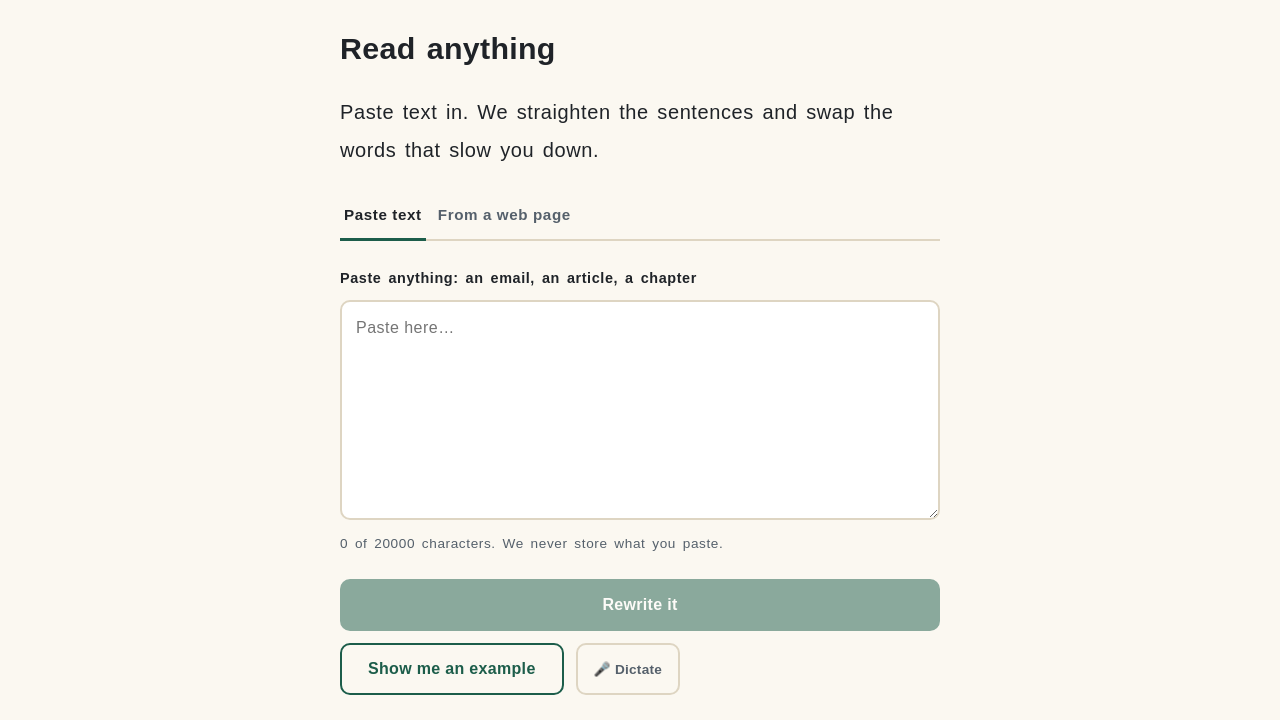
Scenario: Read anything — define a selected word (v0.6) › shows a Define chip when a single word is selected, and shows the definition on click
Type "The clock struck noon." into the text box labelled "Paste anything: an email, an article, a chapter" at (640,410), box [340,300,940,520]
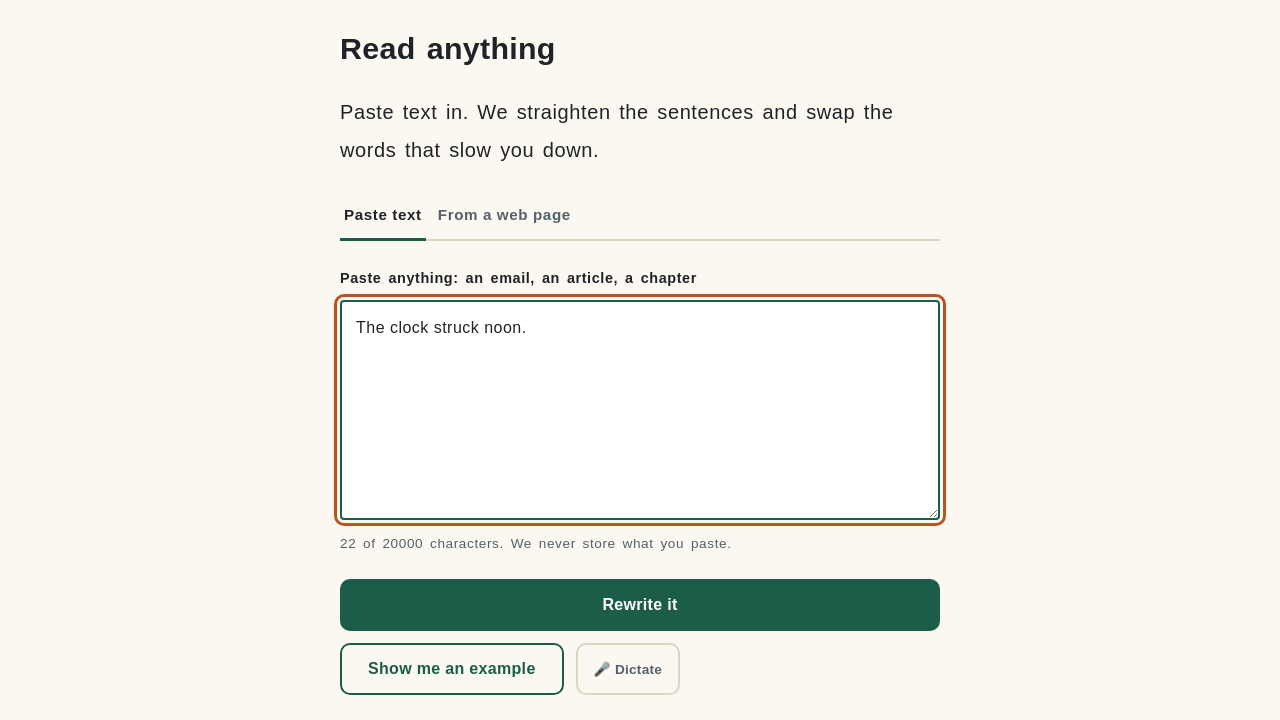
Click the button "Rewrite it" at (640,605), box [340,579,940,631]
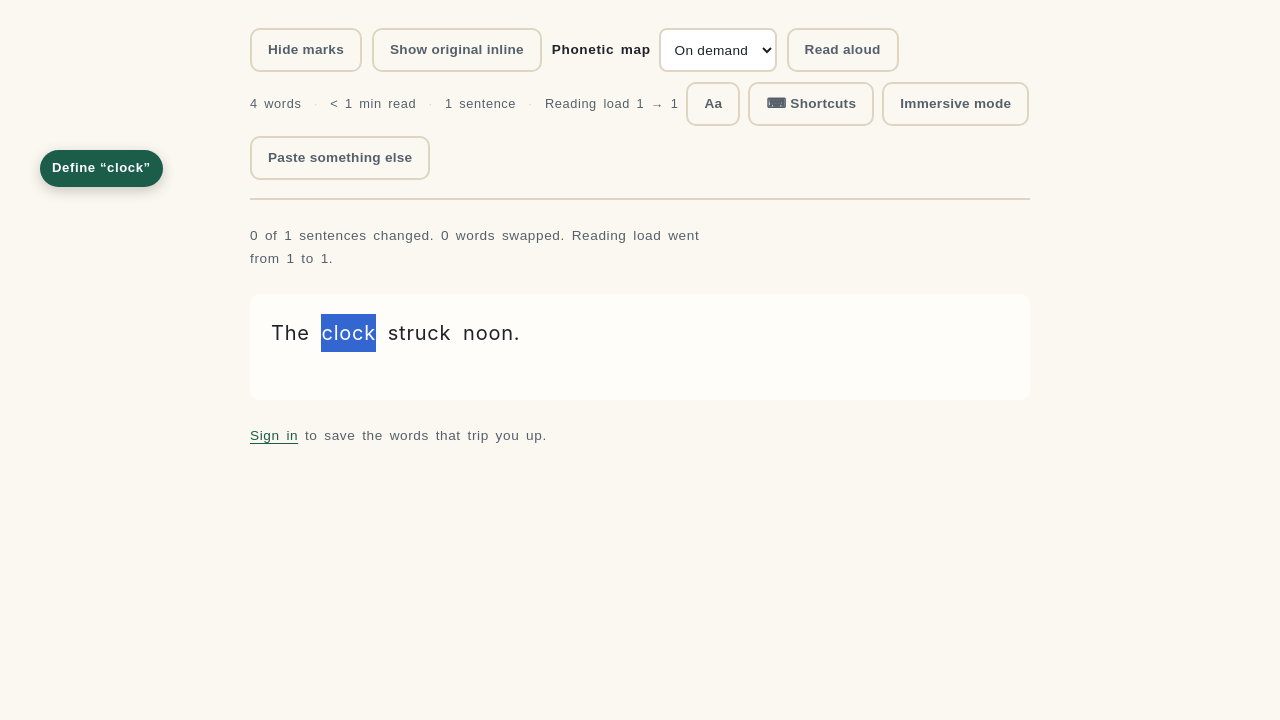
Now the text "sentences changed" is shown, box [292,228,441,243]
Click the button "Define “clock”" at (101,168), box [40,150,163,187]
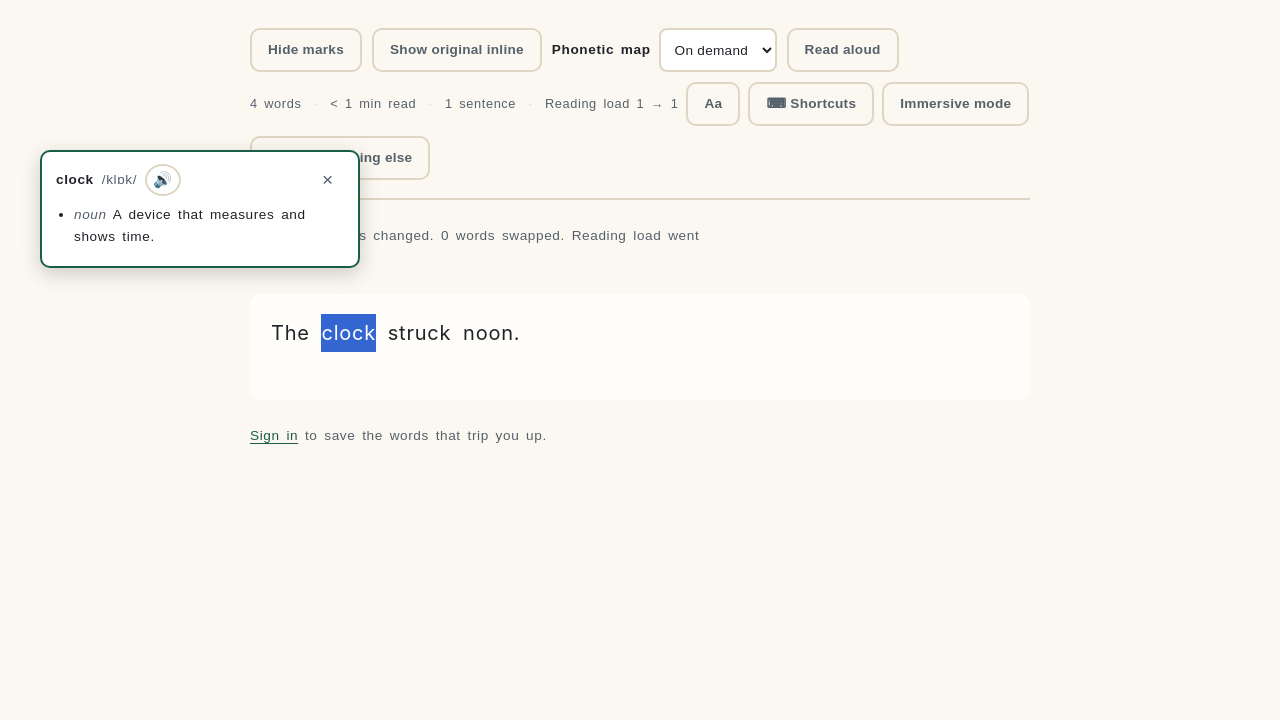
Now the list item "A device that measures and shows time." is shown, box [74,207,306,244]
Now the text "/klɒk/" is shown, box [102,169,137,191]
